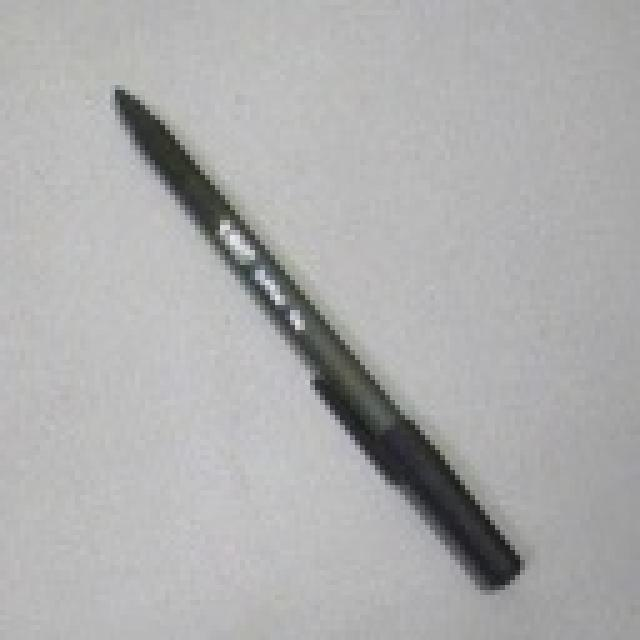pen: (108, 79, 531, 595)
